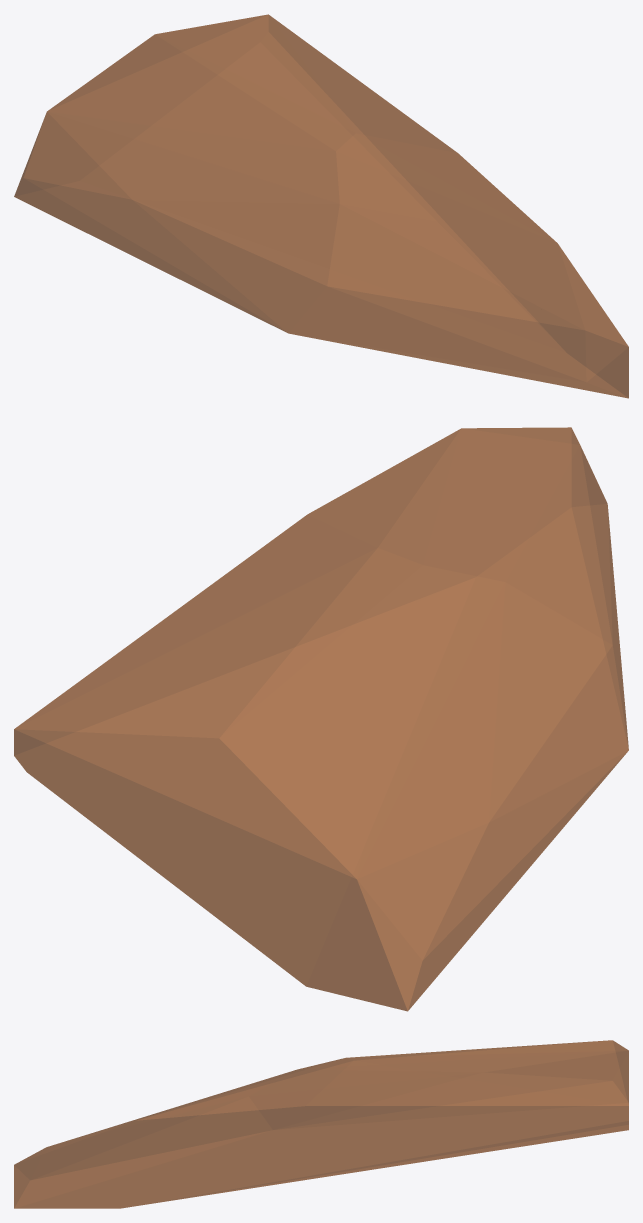
3 renders of one model, top to bottom at view 1: azimuth 30°, elevation 25°; view 2: azimuth 150°, elevation 25°; view 3: azimuth 270°, elevation 25°, orthographic. The views are drawn at different scales.
Visible parts, largest first — view 1: Shape_IndexedFaceSet.005_Shape_IndexedFaceSet.16407; view 2: Shape_IndexedFaceSet.005_Shape_IndexedFaceSet.16407; view 3: Shape_IndexedFaceSet.005_Shape_IndexedFaceSet.16407.
Part boxes in pixels (bbox=[...]): Shape_IndexedFaceSet.005_Shape_IndexedFaceSet.16407: bbox=[14, 14, 628, 398]; Shape_IndexedFaceSet.005_Shape_IndexedFaceSet.16407: bbox=[14, 427, 628, 1011]; Shape_IndexedFaceSet.005_Shape_IndexedFaceSet.16407: bbox=[14, 1040, 628, 1208].
Size of the model in its own units: 0.00712 by 0.00368 by 0.0175.
